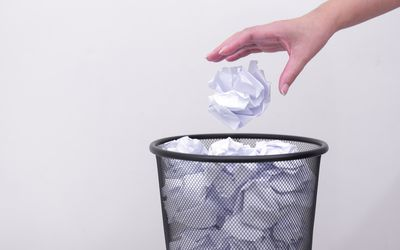Tissue: (204, 61, 274, 128)
